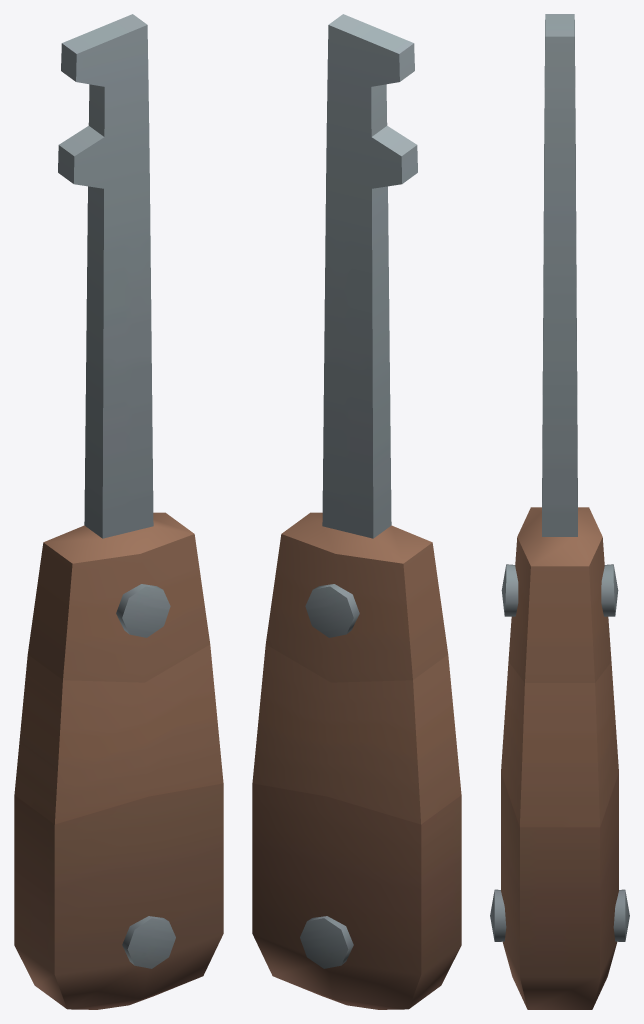
The model's file is lockpick_a.glb.
The picture shows the model from 3 angles, left to right: view 1: azimuth 30°, elevation 25°; view 2: azimuth 150°, elevation 25°; view 3: azimuth 270°, elevation 25°; orthographic projection.
Parts seen in each view (by area): view 1: lockpick_A; view 2: lockpick_A; view 3: lockpick_A.
Boxes of the visible parts, x1,y1,x2,y2 form: lockpick_A: (14,14,223,1009); lockpick_A: (252,14,461,1009); lockpick_A: (490,14,629,1009).
Bounding box in the file's own units: 0.1513 × 0.8367 × 0.1093.
1 material, 1 textured.
